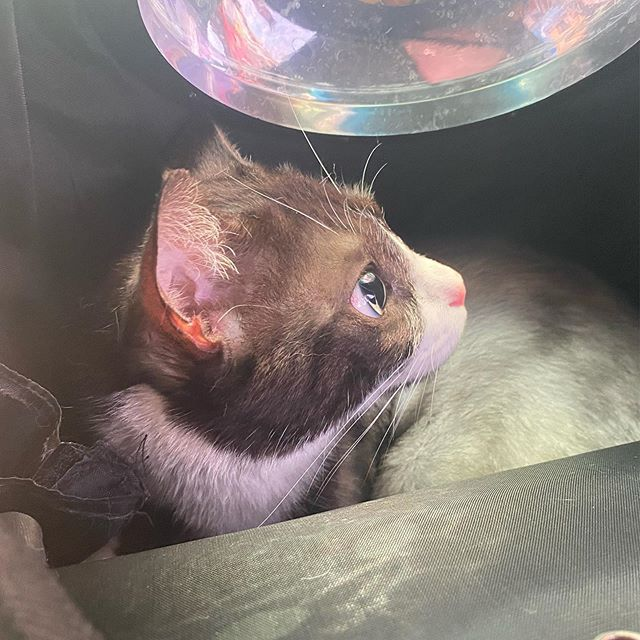cat: (134, 131, 478, 475)
